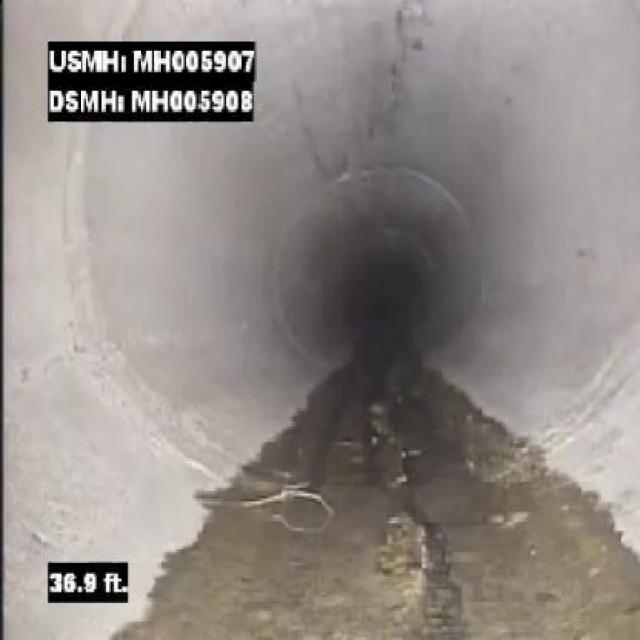Buckling: (398, 488, 492, 624)
Crack: (377, 6, 443, 137)
